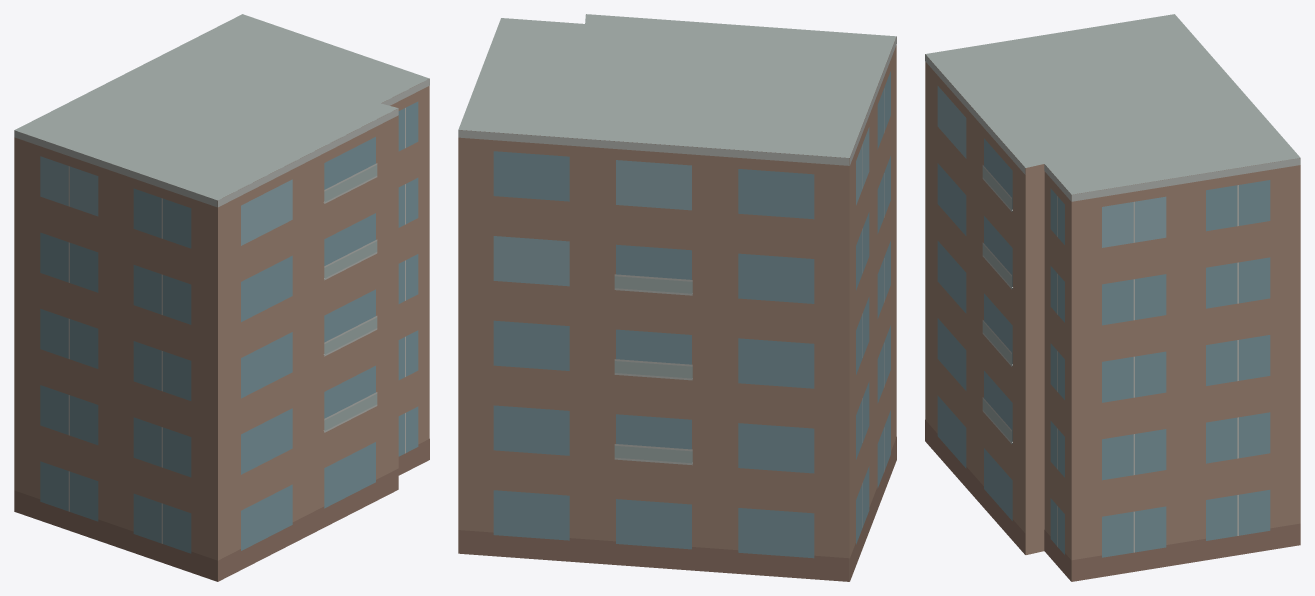
The model's file is survey-upis-32866731.glb.
3 renders of one model, left to right at view 1: azimuth 30°, elevation 25°; view 2: azimuth 150°, elevation 25°; view 3: azimuth 270°, elevation 25°, orthographic. The views are drawn at different scales.
Parts seen in each view (by area): view 1: survey-upis-32866731.tmp; view 2: survey-upis-32866731.tmp; view 3: survey-upis-32866731.tmp.
Boxes of the visible parts, box(x1,y1,x2,y2) form: survey-upis-32866731.tmp: box(14, 14, 429, 581); survey-upis-32866731.tmp: box(458, 14, 896, 581); survey-upis-32866731.tmp: box(925, 14, 1300, 581).
Size of the model in its own units: 13.22 by 13.2 by 11.61.
